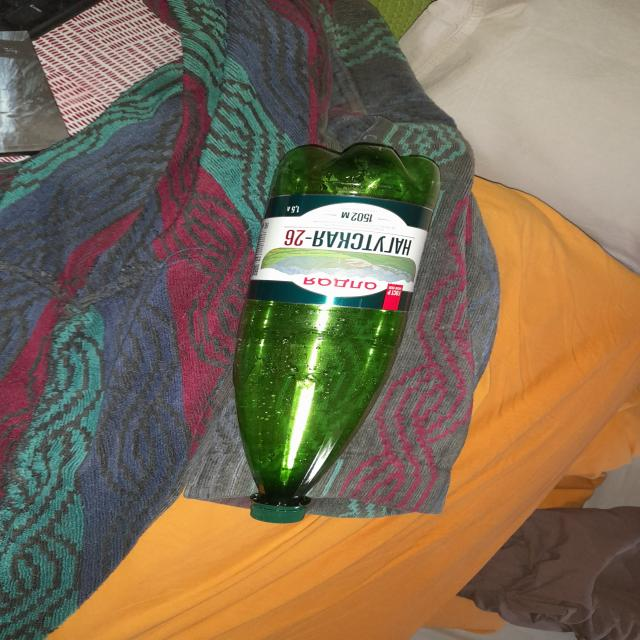empty: (233, 144, 439, 522)
